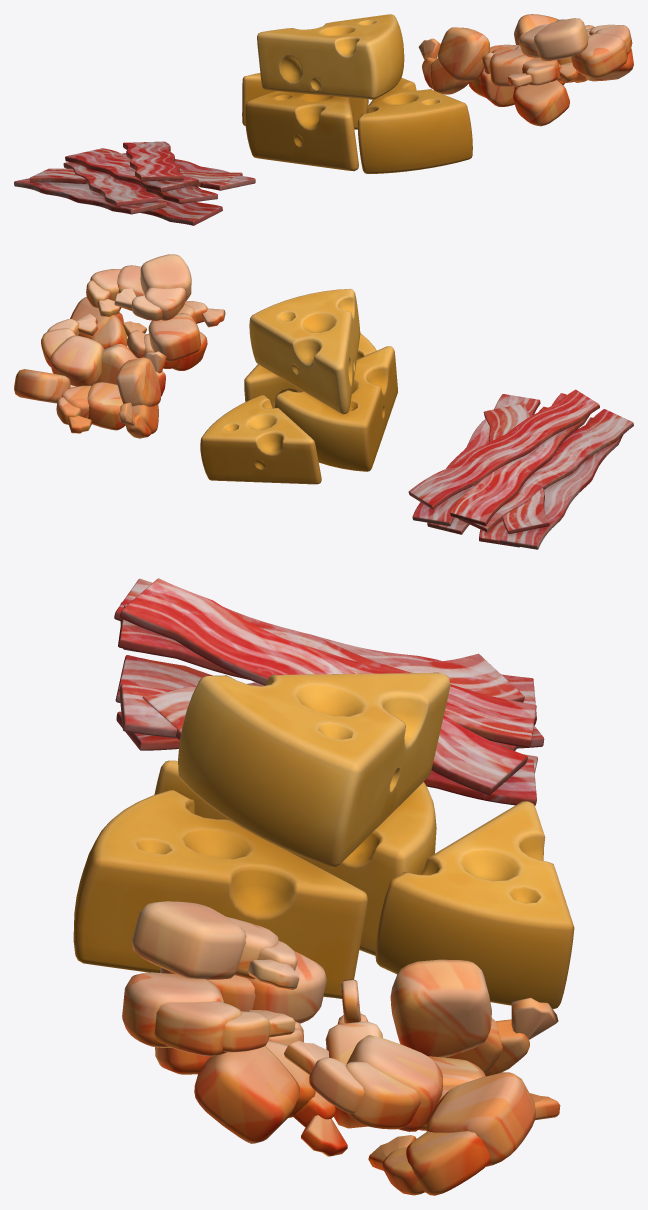
File: JapaneseRestaurant_FoodB.fbx
The picture shows the model from 3 angles, top to bottom: view 1: azimuth 30°, elevation 25°; view 2: azimuth 150°, elevation 25°; view 3: azimuth 270°, elevation 25°; orthographic projection. The views are drawn at different scales.
Visible parts, largest first — view 1: JapaneseRestaurant_FoodB; view 2: JapaneseRestaurant_FoodB; view 3: JapaneseRestaurant_FoodB.
Part boxes in pixels (x1=…): JapaneseRestaurant_FoodB: x1=14, y1=14, x2=633, y2=225; JapaneseRestaurant_FoodB: x1=14, y1=254, x2=633, y2=549; JapaneseRestaurant_FoodB: x1=73, y1=578, x2=574, y2=1195.
Bounding box in the file's own units: 51.61 × 12.82 × 20.6.
